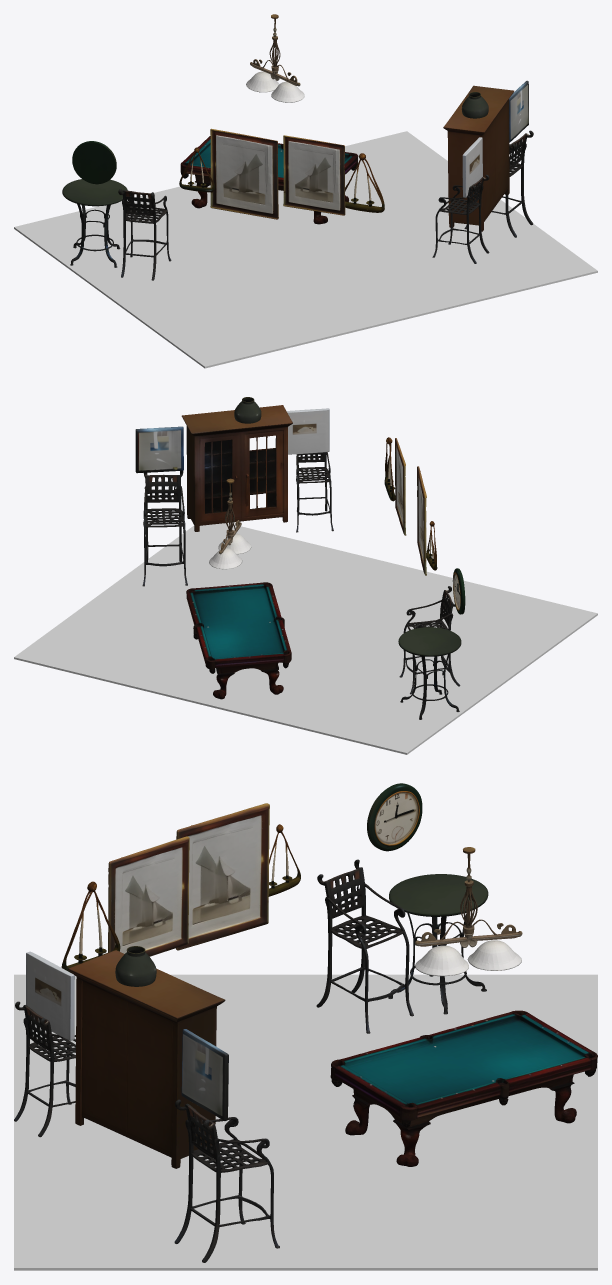
Rendered from stage1.glb.
3 renders of one model, top to bottom at view 1: azimuth 30°, elevation 25°; view 2: azimuth 150°, elevation 25°; view 3: azimuth 270°, elevation 25°, orthographic. The views are drawn at different scales.
Visible parts, largest first — view 1: floor, obj_6, obj_7, obj_5, obj_10, obj_4, obj_8, obj_1, obj_13, obj_3, obj_18, obj_2; view 2: floor, obj_7, obj_4, obj_5, obj_10, obj_3, obj_18, obj_6, obj_8, obj_13, obj_2, obj_1; view 3: floor, obj_7, obj_4, obj_6, obj_5, obj_10, obj_8, obj_3, obj_18, obj_1, obj_13, obj_2.
Boxes of the visible parts, bbox=[...] form: floor: bbox=[14, 131, 597, 368]; obj_6: bbox=[210, 128, 345, 219]; obj_7: bbox=[443, 85, 514, 231]; obj_5: bbox=[118, 130, 533, 280]; obj_10: bbox=[62, 179, 127, 267]; obj_4: bbox=[180, 136, 358, 224]; obj_8: bbox=[246, 14, 304, 102]; obj_1: bbox=[72, 141, 116, 184]; obj_13: bbox=[179, 147, 384, 212]; obj_3: bbox=[509, 80, 528, 142]; obj_18: bbox=[462, 137, 482, 197]; obj_2: bbox=[461, 92, 488, 118]; floor: bbox=[14, 523, 597, 754]; obj_7: bbox=[181, 405, 292, 531]; obj_4: bbox=[186, 582, 291, 699]; obj_5: bbox=[142, 452, 460, 694]; obj_10: bbox=[398, 627, 461, 719]; obj_3: bbox=[135, 426, 183, 473]; obj_18: bbox=[286, 408, 329, 454]; obj_6: bbox=[395, 438, 426, 575]; obj_8: bbox=[209, 478, 251, 569]; obj_13: bbox=[384, 437, 437, 570]; obj_2: bbox=[234, 397, 261, 423]; obj_1: bbox=[452, 568, 465, 614]; floor: bbox=[14, 974, 597, 1270]; obj_7: bbox=[68, 950, 225, 1168]; obj_4: bbox=[330, 1010, 597, 1166]; obj_6: bbox=[108, 803, 269, 956]; obj_5: bbox=[14, 859, 413, 1262]; obj_10: bbox=[388, 874, 488, 1014]; obj_8: bbox=[415, 847, 522, 976]; obj_3: bbox=[181, 1029, 228, 1120]; obj_18: bbox=[26, 951, 74, 1040]; obj_1: bbox=[367, 783, 422, 851]; obj_13: bbox=[61, 824, 300, 973]; obj_2: bbox=[115, 946, 156, 986].
Bounding box in the file's own units: 2.27 × 1.05 × 1.91.
Materials: 11 (11 with a texture image).
